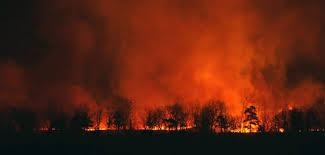fire: (233, 116, 260, 134), (86, 115, 113, 132)
